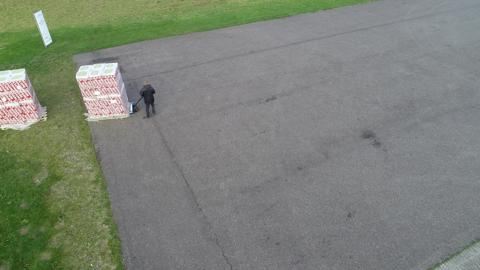RockwoolPallet: (78, 59, 132, 118)
